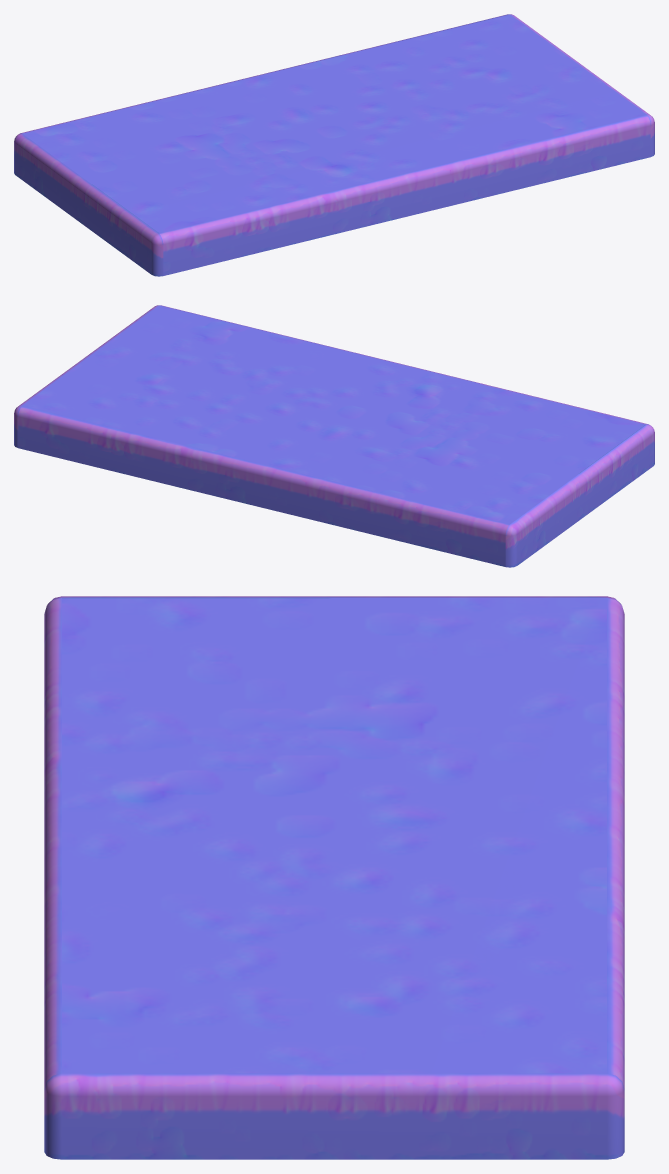
The model's file is sm_curb_01.fbx.
3 views of the same model, one above another, from view 1: azimuth 30°, elevation 25°; view 2: azimuth 150°, elevation 25°; view 3: azimuth 270°, elevation 25° (orthographic). The views are drawn at different scales.
Parts seen in each view (by area): view 1: sm_curb_01; view 2: sm_curb_01; view 3: sm_curb_01.
Part boxes in pixels (x1=…): sm_curb_01: x1=14, y1=14, x2=654, y2=276; sm_curb_01: x1=14, y1=305, x2=654, y2=567; sm_curb_01: x1=44, y1=596, x2=624, y2=1159.
Bounding box in the file's own units: 200 × 15 × 100.
Materials: 1 (1 with a texture image).
